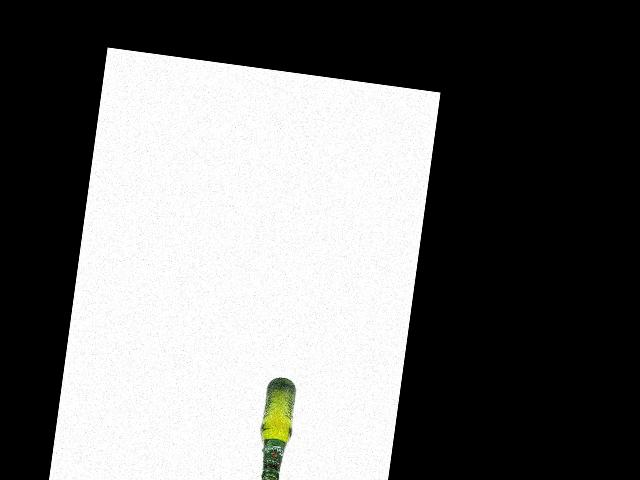beer: (252, 375, 299, 480)
